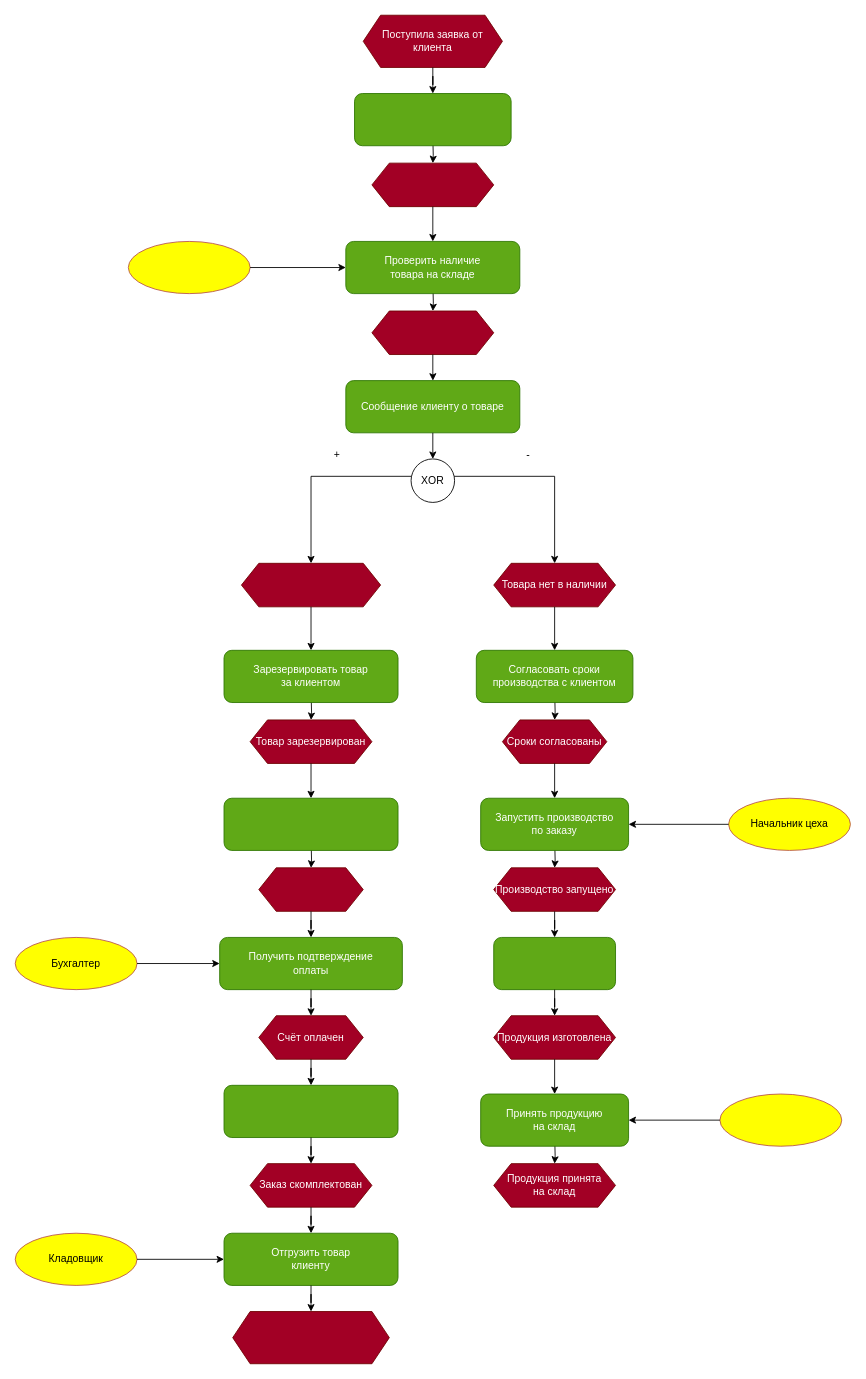
Image size: 866x1379. Some labels were removed from this diagram. Here are the shapes that lost their labels. From the top down, the centre of each, then its label:
At pixel 432 119: "Зарегистрировать заказ в системе".
At pixel 432 184: "Заказ зарегистрирован".
At pixel 188 267: "Менеджер по продажам".
At pixel 432 332: "Наличие проверено".
At pixel 311 584: "Товар имеется на складе".
At pixel 310 823: "Выставить счёт на оплату".
At pixel 310 889: "Счёт выставлен".
At pixel 554 963: "Изготовить продукцию".
At pixel 310 1111: "Скомплектовать заказ на складе".
At pixel 780 1119: "Оператор".
At pixel 310 1337: "Заказ выполнен, документы подписаны".
